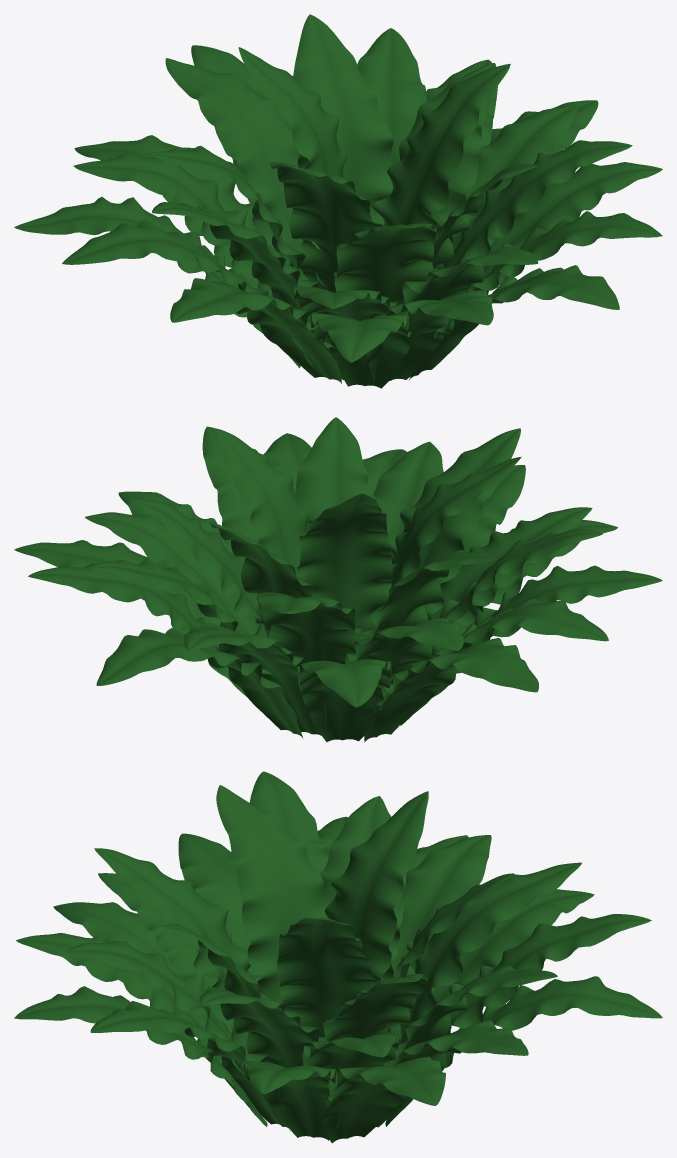
File: ferns_V1_UV.fbx
The picture shows the model from 3 angles, top to bottom: view 1: azimuth 30°, elevation 25°; view 2: azimuth 150°, elevation 25°; view 3: azimuth 270°, elevation 25°; orthographic projection. The views are drawn at different scales.
Visible parts, largest first — view 1: Fern; view 2: Fern; view 3: Fern.
Boxes of the visible parts, x1=… form: Fern: x1=14, y1=14, x2=662, y2=388; Fern: x1=14, y1=417, x2=662, y2=742; Fern: x1=14, y1=771, x2=662, y2=1143.
Size of the model in its own units: 135 by 65.05 by 133.
